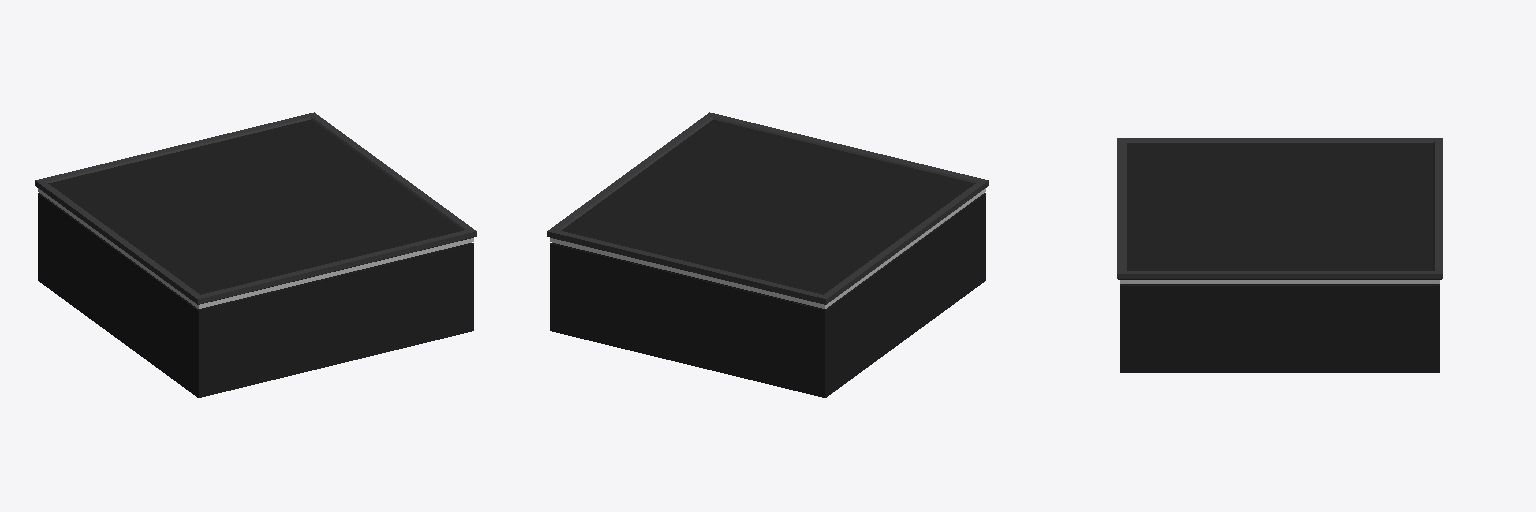
The model's file is platformField.obj.
3 views of the same model, side by side, from view 1: azimuth 30°, elevation 25°; view 2: azimuth 150°, elevation 25°; view 3: azimuth 270°, elevation 25° (orthographic).
Visible parts, largest first — view 1: Platform_4x4_Empty_Cube.013; view 2: Platform_4x4_Empty_Cube.013; view 3: Platform_4x4_Empty_Cube.013.
Boxes of the visible parts, x1=… form: Platform_4x4_Empty_Cube.013: x1=35, y1=112, x2=476, y2=397; Platform_4x4_Empty_Cube.013: x1=547, y1=112, x2=988, y2=397; Platform_4x4_Empty_Cube.013: x1=1117, y1=138, x2=1442, y2=372.
Size of the model in its own units: 3.86 by 1.33 by 3.89.